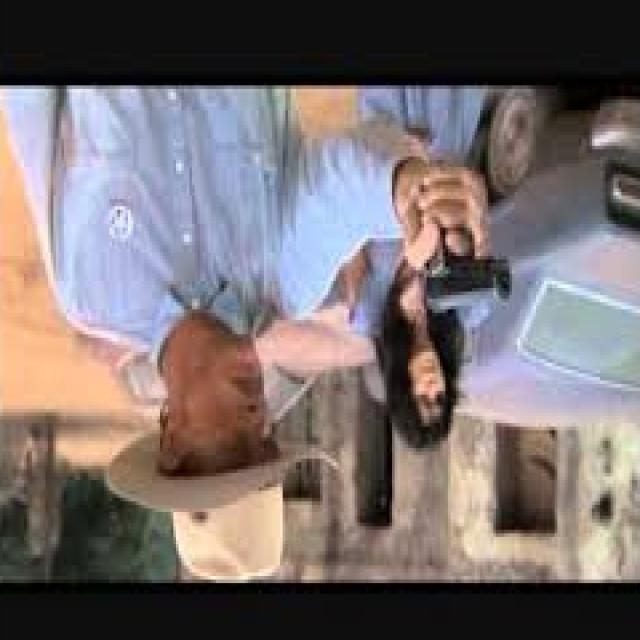gun: (409, 185, 534, 322)
